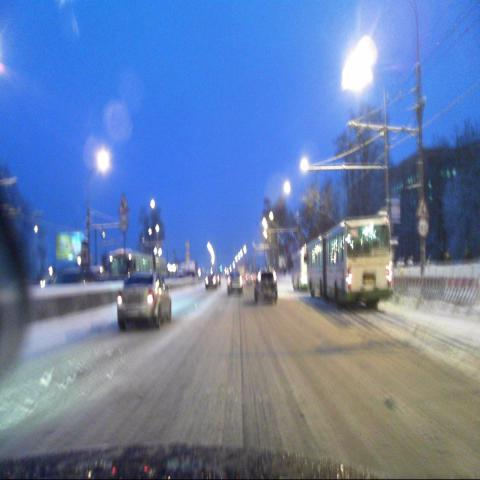1_25: (415, 197, 431, 218)
